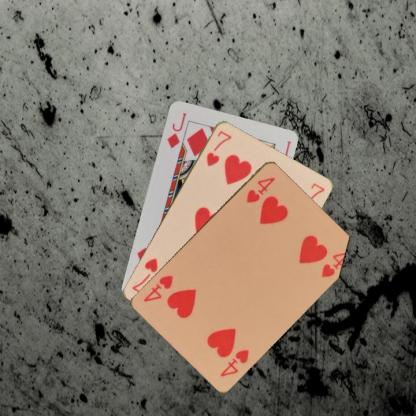4h: (217, 346, 250, 378), (243, 174, 276, 204)
7h: (204, 128, 233, 168)
Jd: (164, 110, 188, 150)
